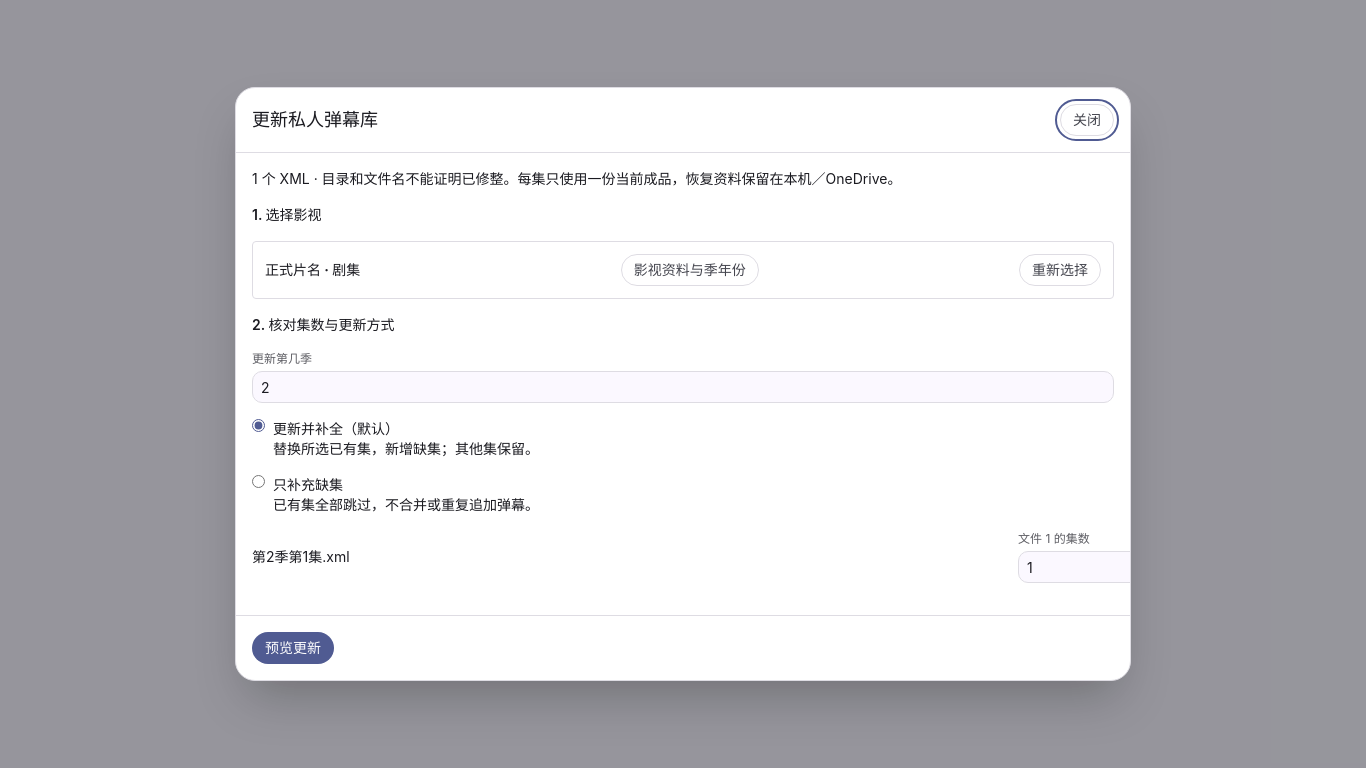
it: asks for the selected season before preparing a TMDB-bound upload
Click the button "预览更新" at (293, 648), box [252,632,334,664]
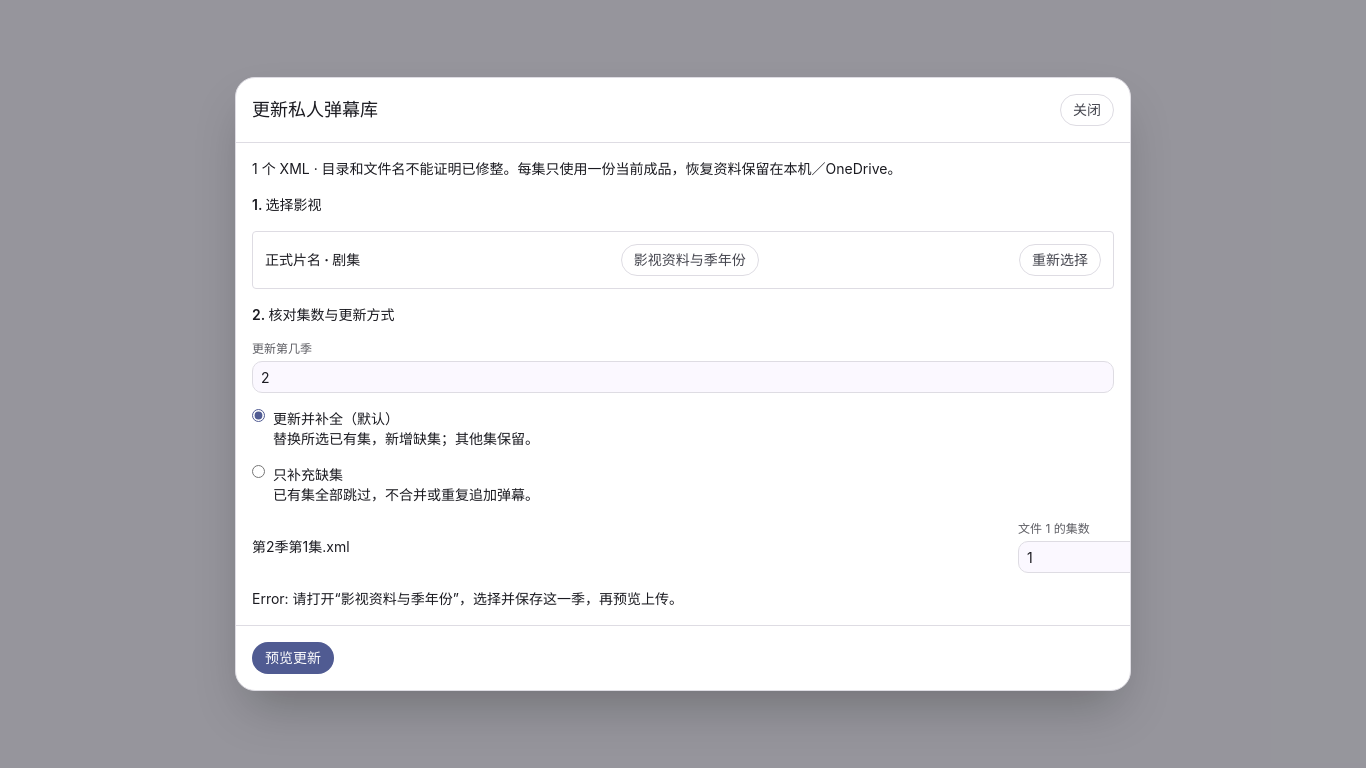
Expected: the text "Error: 请打开“影视资料与季年份”，选择并保存这一季，再预览上传。" is shown, [252,590,683,607]
